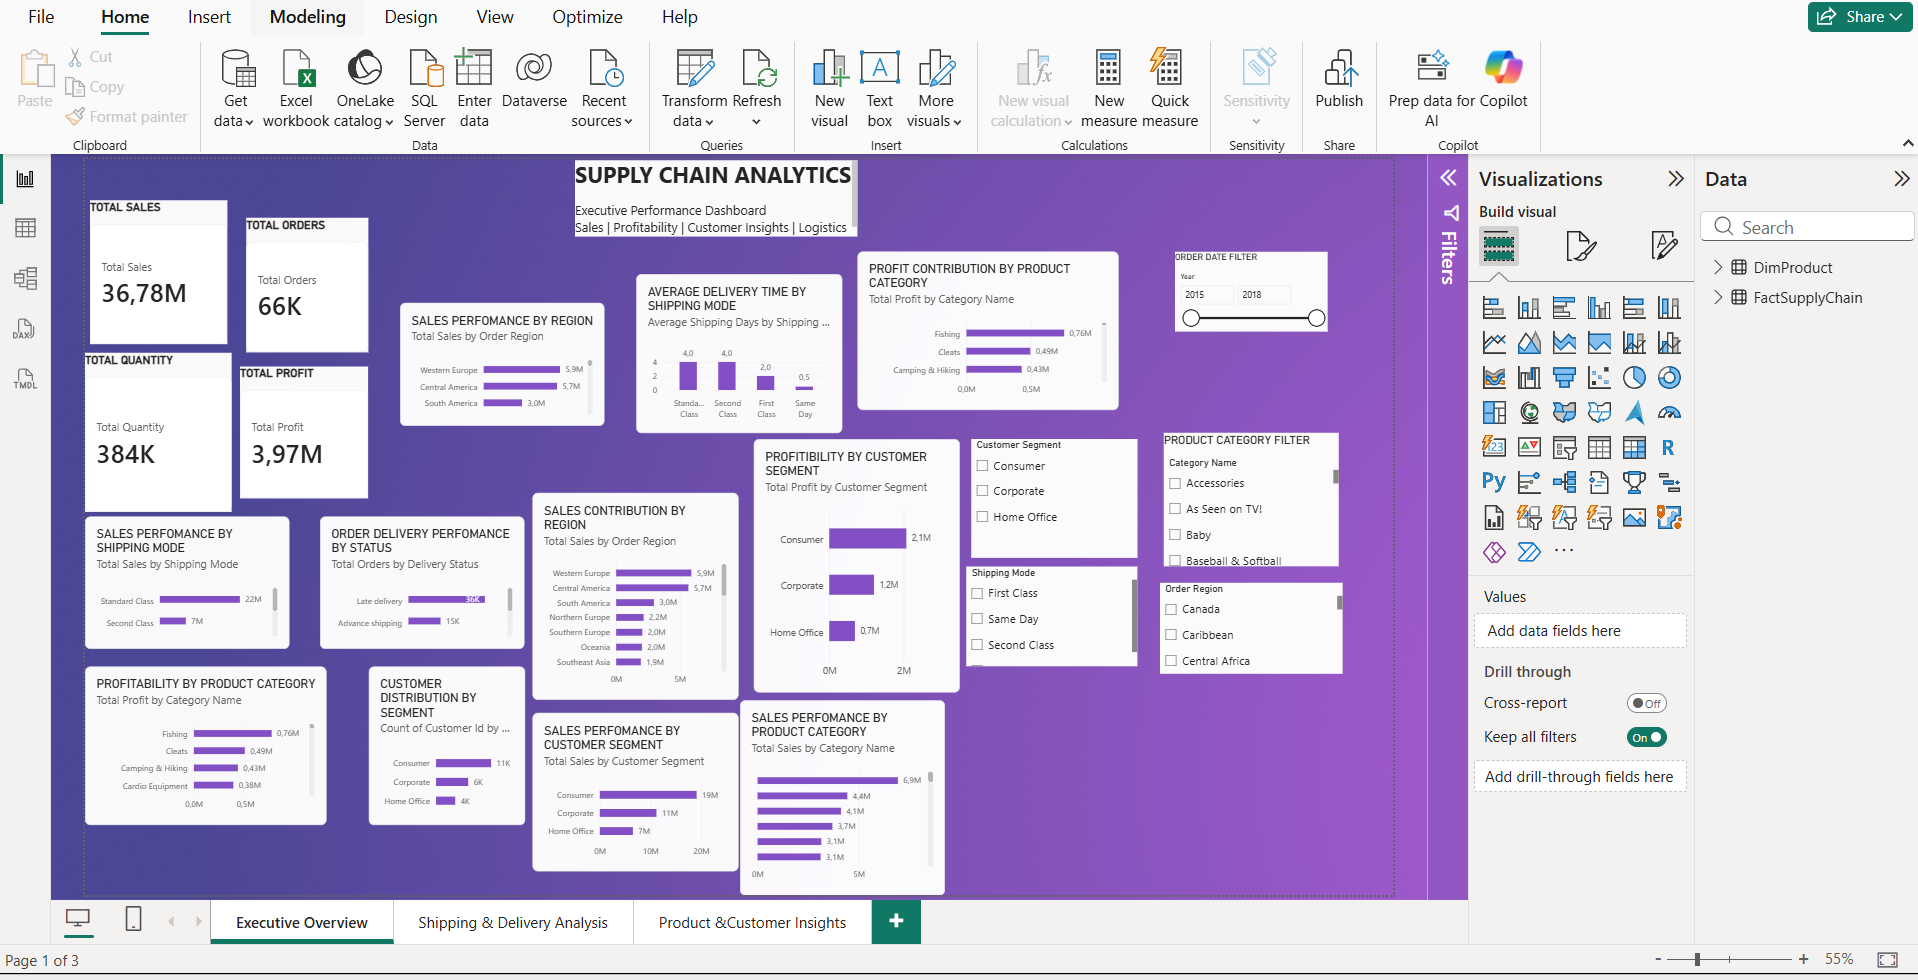

The page's visual inventory and layout, read from the dashboard file:
{"tool":"powerbi","page":{"name":"Executive Overview","canvas":[1920,1080],"ordinal":0},"visuals":[{"type":"cardVisual","title":"TOTAL SALES","fields":{"Data":["FactSupplyChain.Total Sales"]},"box":[7.3,60.5,201.8,210.9],"z":0},{"type":"cardVisual","title":"TOTAL ORDERS","fields":{"Data":["FactSupplyChain.Total Orders"]},"box":[236.6,86.2,179.2,197.3],"z":1000},{"type":"cardVisual","title":"TOTAL QUANTITY","fields":{"Data":["FactSupplyChain.Total Quantity"]},"box":[0,284.3,215.3,233.4],"z":2000},{"type":"cardVisual","title":"TOTAL PROFIT","fields":{"Data":["FactSupplyChain.Total Profit"]},"box":[227.4,304.5,188.2,193.6],"z":3000},{"type":"clusteredBarChart","title":"SALES PERFOMANCE BY PRODUCT CATEGORY","fields":{"Category":["DimProduct.Category Name"],"Y":["FactSupplyChain.Total Sales"]},"box":[961.1,794.2,300.8,286.1],"z":4000},{"type":"clusteredBarChart","title":"SALES PERFOMANCE BY REGION","fields":{"Category":["FactSupplyChain.Order Region"],"Y":["FactSupplyChain.Total Sales"]},"box":[462.2,210.9,300,181],"z":5000},{"type":"clusteredBarChart","title":"SALES PERFOMANCE BY SHIPPING MODE","fields":{"Category":["FactSupplyChain.Shipping Mode"],"Y":["FactSupplyChain.Total Sales"]},"box":[0,524.6,300,194],"z":6000},{"type":"clusteredBarChart","title":"ORDER DELIVERY PERFOMANCE BY STATUS","fields":{"Category":["FactSupplyChain.Delivery Status"],"Y":["FactSupplyChain.Total Orders"]},"box":[344.8,524.6,300,194],"z":7000},{"type":"clusteredColumnChart","title":"AVERAGE DELIVERY TIME BY SHIPPING MODE","fields":{"Category":["FactSupplyChain.Shipping Mode"],"Y":["FactSupplyChain.Average Shipping Days"]},"box":[808.9,168.8,302.2,233.4],"z":8000},{"type":"clusteredBarChart","title":"SALES PERFOMANCE BY CUSTOMER SEGMENT","fields":{"Category":["FactSupplyChain.Customer Segment"],"Y":["FactSupplyChain.Total Sales"]},"box":[656.7,812.6,302,233],"z":9000},{"type":"clusteredBarChart","title":"SALES CONTRIBUTION BY REGION","fields":{"Category":["FactSupplyChain.Order Region"],"Y":["FactSupplyChain.Total Sales"]},"box":[656.7,489.7,302.2,304],"z":10000},{"type":"clusteredBarChart","title":"PROFITABILITY BY PRODUCT CATEGORY","fields":{"Category":["DimProduct.Category Name"],"Y":["FactSupplyChain.Total Profit"]},"box":[0,744.7,354,232.9],"z":11000},{"type":"clusteredBarChart","title":"CUSTOMER DISTRIBUTION BY SEGMENT","fields":{"Category":["FactSupplyChain.Customer Segment"],"Y":["Count(FactSupplyChain.Customer Id)"]},"box":[416.4,744.7,229.3,232.9],"z":12000},{"type":"clusteredBarChart","title":"PROFITIBILITY BY CUSTOMER SEGMENT","fields":{"Category":["FactSupplyChain.Customer Segment"],"Y":["FactSupplyChain.Total Profit"]},"box":[981.3,410.9,302.7,372.4],"z":13000},{"type":"clusteredBarChart","title":"PROFIT CONTRIBUTION BY PRODUCT CATEGORY","fields":{"Category":["FactSupplyChain.Category Name"],"Y":["FactSupplyChain.Total Profit"]},"box":[1133.6,135.7,383.4,232.9],"z":14000},{"type":"slicer","fields":{"Values":["FactSupplyChain.Order Region"]},"box":[1577.5,621.8,267.8,133.9],"z":15000},{"type":"slicer","fields":{"Values":["FactSupplyChain.Customer Segment"]},"box":[1300.5,410.9,244,174.3],"z":16000},{"type":"slicer","fields":{"Values":["FactSupplyChain.Shipping Mode"]},"box":[1293.1,598,251.3,146.7],"z":17000},{"type":"textbox","box":[719,1.8,414.5,111.9],"z":18000},{"type":"slicer","title":"ORDER DATE FILTER","fields":{"Values":["FactSupplyChain.order date (DateOrders).Variation.Date Hierarchy.Year"]},"box":[1599.5,135.7,223.8,117.4],"z":19000},{"type":"slicer","title":"PRODUCT CATEGORY FILTER","fields":{"Values":["DimProduct.Category Name"]},"box":[1583,401.7,256.8,196.3],"z":20000}]}

Visuals, with their boxes on the page's 1920x1080 design canvas (x1, y1, x2, y2). These are canvas units, not pixel positions in the 1918x980 screenshot, which may show the page scaled, cropped or inside an application window:
"TOTAL SALES" cardVisual: bbox=[7, 60, 209, 271]
"TOTAL ORDERS" cardVisual: bbox=[237, 86, 416, 284]
"TOTAL QUANTITY" cardVisual: bbox=[0, 284, 215, 518]
"TOTAL PROFIT" cardVisual: bbox=[227, 304, 416, 498]
"SALES PERFOMANCE BY PRODUCT CATEGORY" clusteredBarChart: bbox=[961, 794, 1262, 1080]
"SALES PERFOMANCE BY REGION" clusteredBarChart: bbox=[462, 211, 762, 392]
"SALES PERFOMANCE BY SHIPPING MODE" clusteredBarChart: bbox=[0, 525, 300, 719]
"ORDER DELIVERY PERFOMANCE BY STATUS" clusteredBarChart: bbox=[345, 525, 645, 719]
"AVERAGE DELIVERY TIME BY SHIPPING MODE" clusteredColumnChart: bbox=[809, 169, 1111, 402]
"SALES PERFOMANCE BY CUSTOMER SEGMENT" clusteredBarChart: bbox=[657, 813, 959, 1046]
"SALES CONTRIBUTION BY REGION" clusteredBarChart: bbox=[657, 490, 959, 794]
"PROFITABILITY BY PRODUCT CATEGORY" clusteredBarChart: bbox=[0, 745, 354, 978]
"CUSTOMER DISTRIBUTION BY SEGMENT" clusteredBarChart: bbox=[416, 745, 646, 978]
"PROFITIBILITY BY CUSTOMER SEGMENT" clusteredBarChart: bbox=[981, 411, 1284, 783]
"PROFIT CONTRIBUTION BY PRODUCT CATEGORY" clusteredBarChart: bbox=[1134, 136, 1517, 369]
slicer - FactSupplyChain.Order Region: bbox=[1578, 622, 1845, 756]
slicer - FactSupplyChain.Customer Segment: bbox=[1300, 411, 1544, 585]
slicer - FactSupplyChain.Shipping Mode: bbox=[1293, 598, 1544, 745]
textbox: bbox=[719, 2, 1134, 114]
"ORDER DATE FILTER" slicer: bbox=[1600, 136, 1823, 253]
"PRODUCT CATEGORY FILTER" slicer: bbox=[1583, 402, 1840, 598]
